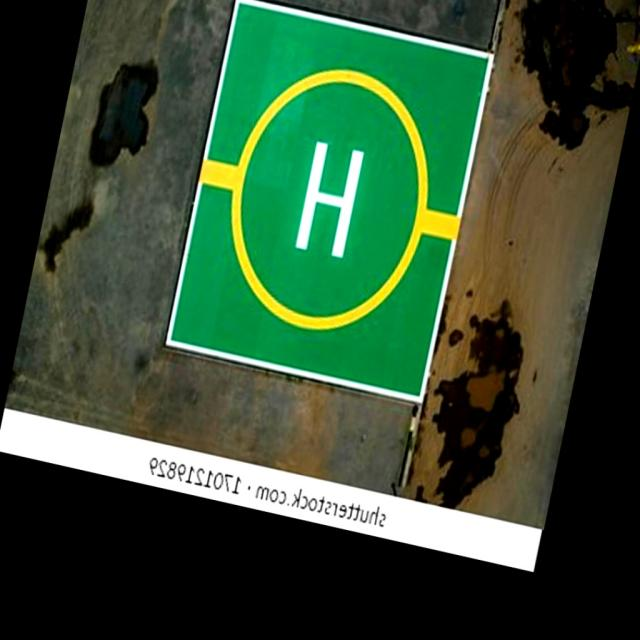helipad: (229, 64, 429, 334)
